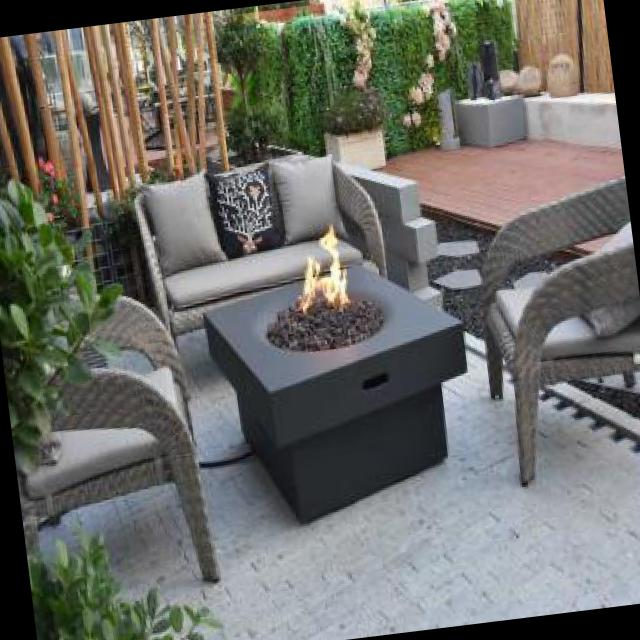Fire: (294, 220, 358, 322)
